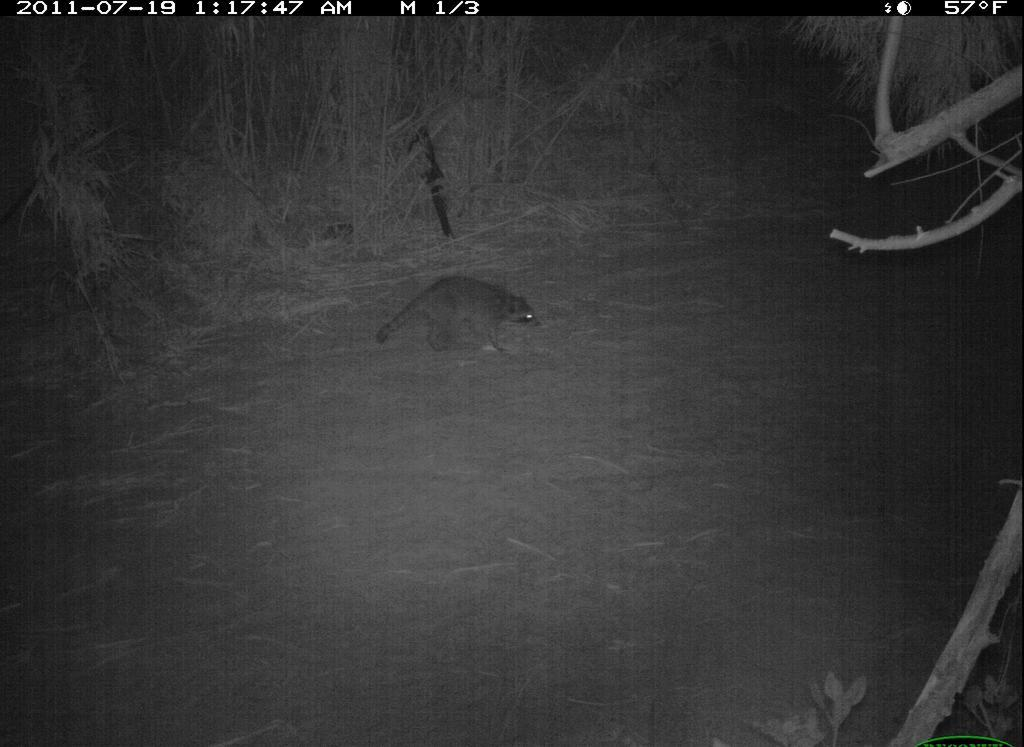raccoon: (356, 254, 559, 392)
